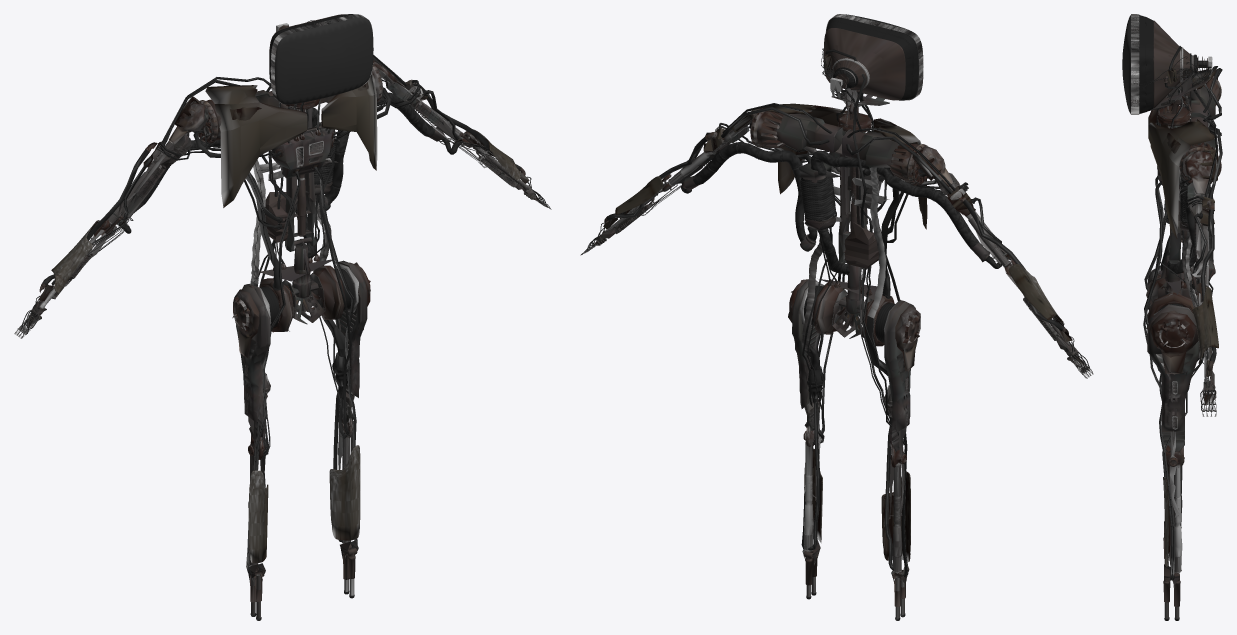
The model's file is tempver.fbx.
3 renders of one model, left to right at view 1: azimuth 30°, elevation 25°; view 2: azimuth 150°, elevation 25°; view 3: azimuth 270°, elevation 25°, orthographic. The views are drawn at different scales.
Parts seen in each view (by area): view 1: Cube.012; view 2: Cube.012; view 3: Cube.012.
Boxes of the visible parts, x1=… form: Cube.012: x1=14, y1=14, x2=551, y2=620; Cube.012: x1=580, y1=14, x2=1093, y2=620; Cube.012: x1=1122, y1=14, x2=1222, y2=620.
Size of the model in its own units: 1039 by 1117 by 179.
